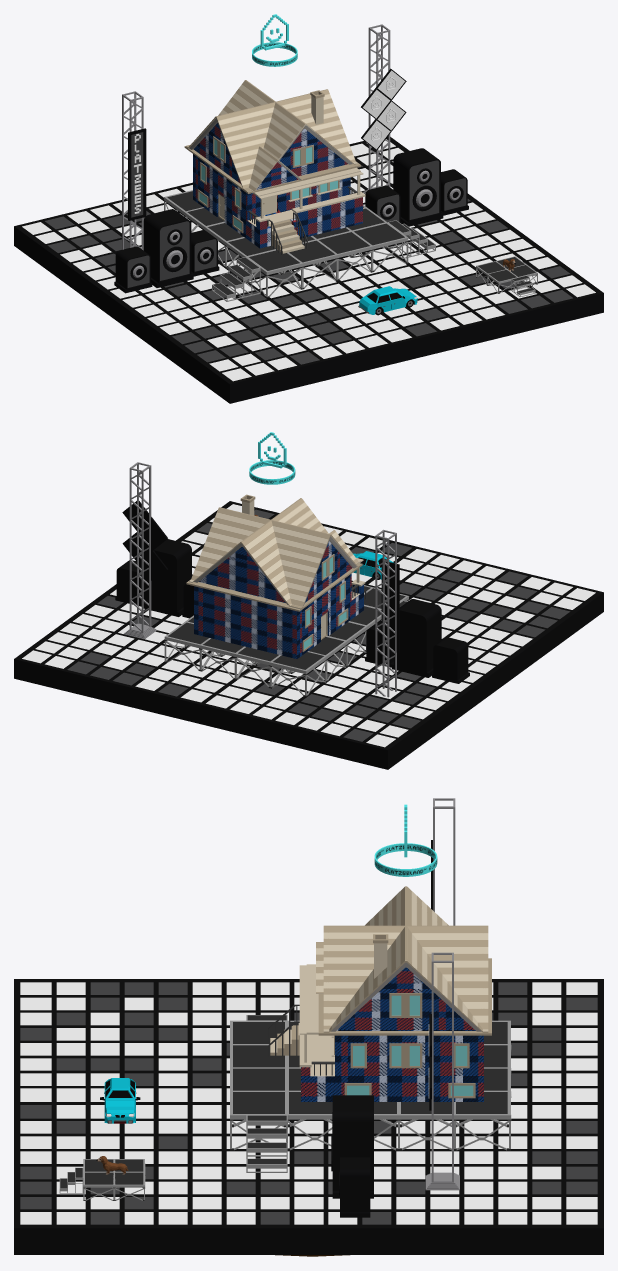
3 renders of one model, top to bottom at view 1: azimuth 30°, elevation 25°; view 2: azimuth 150°, elevation 25°; view 3: azimuth 270°, elevation 25°, orthographic. The views are drawn at different scales.
Visible parts, largest first — view 1: Cube.008, Cube.171, VEHICLES_CAR, TYPE_PREMIUM; view 2: Cube.008, Cube.171, TYPE_PREMIUM, VEHICLES_CAR; view 3: Cube.008, Cube.171, VEHICLES_CAR, TYPE_PREMIUM.
Boxes of the visible parts, <box> form: Cube.008: <box>14,24,603,403</box>; Cube.171: <box>184,80,365,254</box>; VEHICLES_CAR: <box>358,286,417,315</box>; TYPE_PREMIUM: <box>252,14,297,66</box>; Cube.008: <box>14,462,603,769</box>; Cube.171: <box>186,494,366,658</box>; TYPE_PREMIUM: <box>249,432,295,484</box>; VEHICLES_CAR: <box>353,551,393,579</box>; Cube.008: <box>14,798,603,1254</box>; Cube.171: <box>268,886,491,1101</box>; VEHICLES_CAR: <box>100,1078,140,1123</box>; TYPE_PREMIUM: <box>374,804,437,876</box>.
Size of the model in its own units: 4000 by 2578 by 4000.
38 materials, 3 textured.
